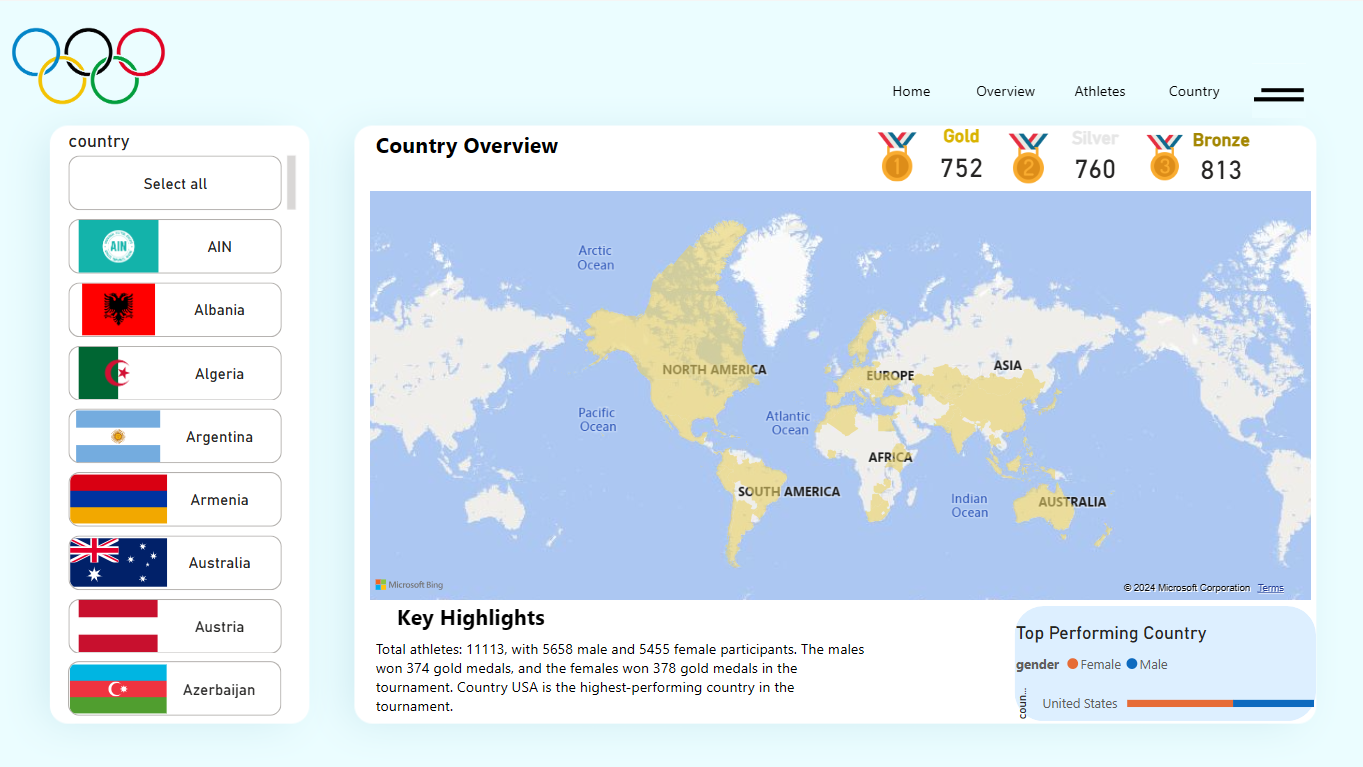

This screenshot's page, from the dashboard's own definition file:
{"tool":"powerbi","page":{"name":"Country","canvas":[1280,720],"ordinal":3},"visuals":[{"type":"filledMap","fields":{"Category":["medallists.country"]},"box":[342.5,172.5,887.5,391.2],"z":0},{"type":"shape","box":[353.8,117.5,343.8,31.2],"z":1000},{"type":"shape","box":[948.7,563.8,281.2,107.5],"z":1500,"group":"g1"},{"type":"barChart","title":"Top Performing Country","fields":{"Y":["Olympic_Measures.Total_Medals"],"Category":["medallists.country"],"Series":["medallists.gender"]},"box":[945.3,579.1,325,100],"z":2000,"group":"g1"},{"type":"group","id":"g1","title":"Group 1","box":[945.3,563.8,325,115.3],"z":2001},{"type":"shape","box":[352.7,590.3,458.3,80],"z":2002},{"type":"shape","box":[372.5,558.8,343.8,31.2],"z":2003},{"type":"card","title":"Gold","fields":{"Values":["Olympic_Measures.Total_Gold_medals"]},"box":[838.8,115,122.5,60],"z":2004},{"type":"card","title":"Silver","fields":{"Values":["Olympic_Measures.Total_Silver_Medals"]},"box":[971.2,117.5,106.2,57.5],"z":2005},{"type":"card","title":"Bronze","fields":{"Values":["Olympic_Measures.Total_Bronze_Medals"]},"box":[1090,118.8,103.8,56.2],"z":2006},{"type":"image","box":[807.5,117.5,62.5,55],"z":2007},{"type":"image","box":[928.8,118.8,65,56.2],"z":2008},{"type":"image","box":[1055,120,68.8,52.5],"z":2009},{"type":"advancedSlicerVisual","fields":{"Values":["medallists.country"]},"box":[61.2,120,222.5,558.8],"z":2010},{"type":"pageNavigator","box":[813.3,58.3,343.3,50],"z":2011},{"type":"actionButton","box":[1170,58.3,50,50],"z":2012},{"type":"image","box":[0,0,172.5,120],"z":2013}]}

Visuals, with their boxes in screenshot pixels (x1, y1, x2, y2), scaled from the page's 1280x720 canvas onto the 1363x767 screenshot:
filledMap - medallists.country: rect(365, 184, 1310, 600)
shape: rect(377, 125, 743, 158)
shape: rect(1010, 601, 1310, 715)
"Top Performing Country" barChart: rect(1007, 617, 1353, 723)
"Group 1" group: rect(1007, 601, 1353, 723)
shape: rect(376, 629, 864, 714)
shape: rect(397, 595, 763, 629)
"Gold" card: rect(893, 123, 1024, 186)
"Silver" card: rect(1034, 125, 1147, 186)
"Bronze" card: rect(1161, 127, 1271, 186)
image: rect(860, 125, 926, 184)
image: rect(989, 127, 1058, 186)
image: rect(1123, 128, 1197, 184)
advancedSlicerVisual - medallists.country: rect(65, 128, 302, 723)
pageNavigator: rect(866, 62, 1232, 115)
actionButton: rect(1246, 62, 1299, 115)
image: rect(0, 0, 184, 128)
